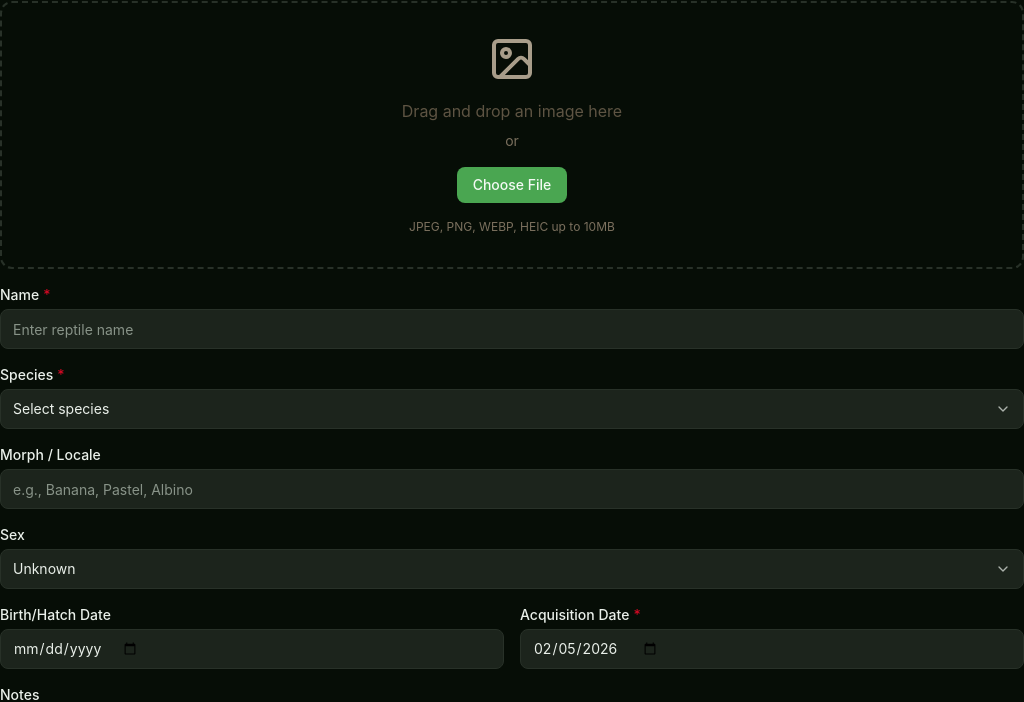
Test case: ReptileForm › species-aware measurements section › should show snout-to-vent field for geckos
// Select leopard gecko
Click the dropdown labelled "Select species" at (61, 408), box [0, 389, 1023, 429]
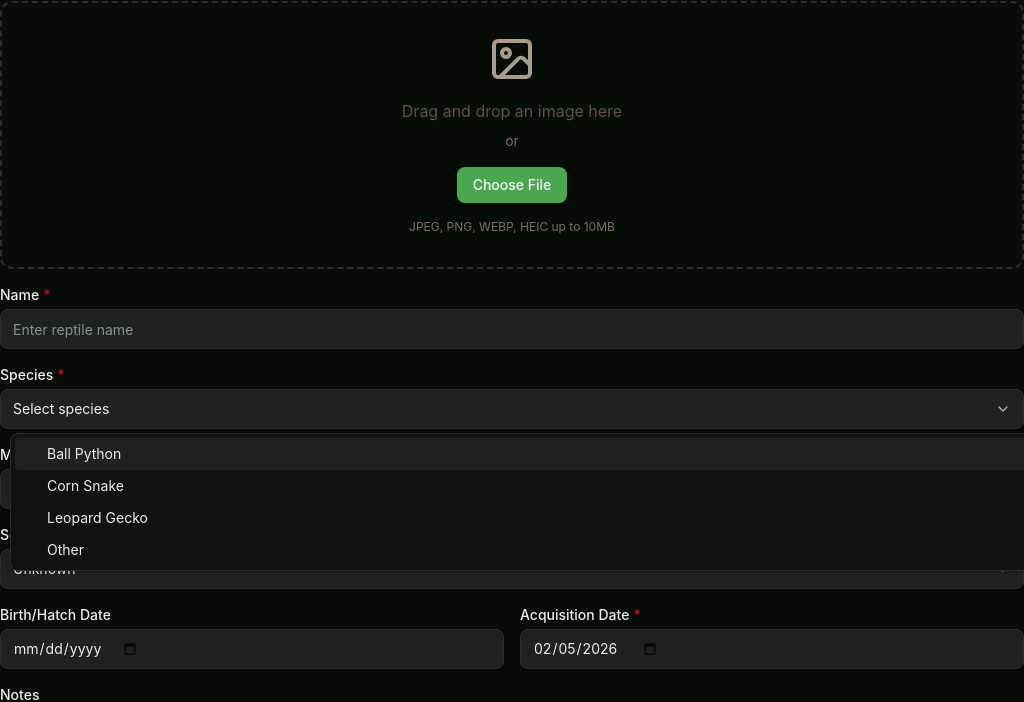
Expected: the option "Leopard Gecko" is shown
Click the option "Leopard Gecko" at (98, 518), box [47, 509, 148, 526]
(page scrolled)
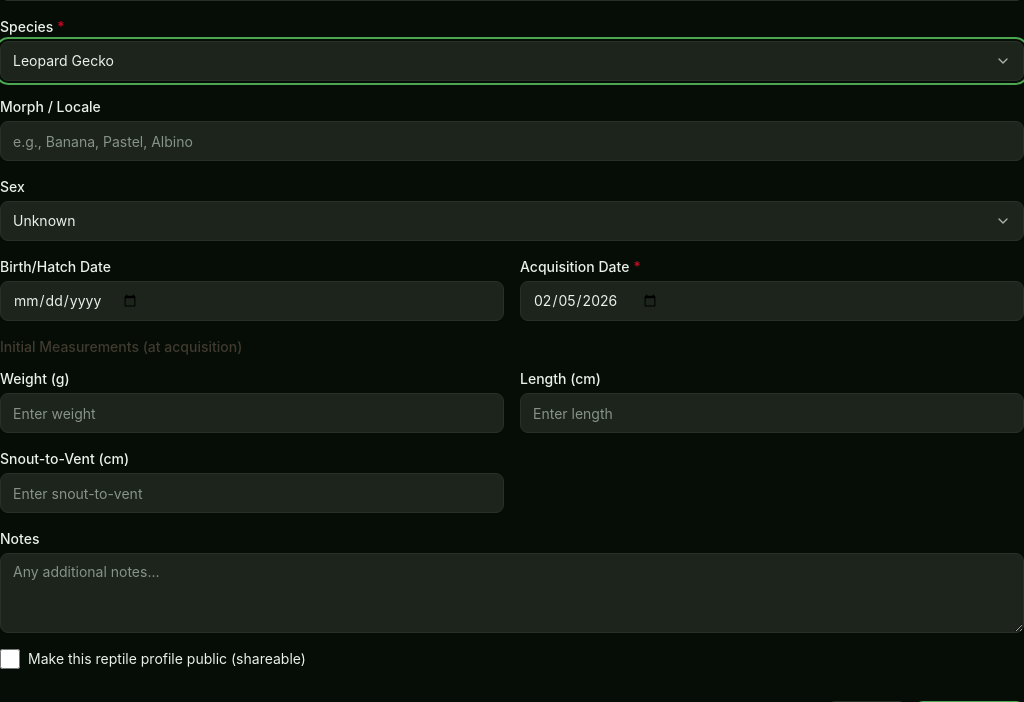
Expected: the heading "Initial Measurements (at acquisition)" is shown, [0, 338, 242, 355]
Expected: the number field labelled "Weight (g)" is shown, [0, 393, 504, 433]
Expected: the number field labelled "Length (cm)" is shown, [520, 393, 1023, 433]
